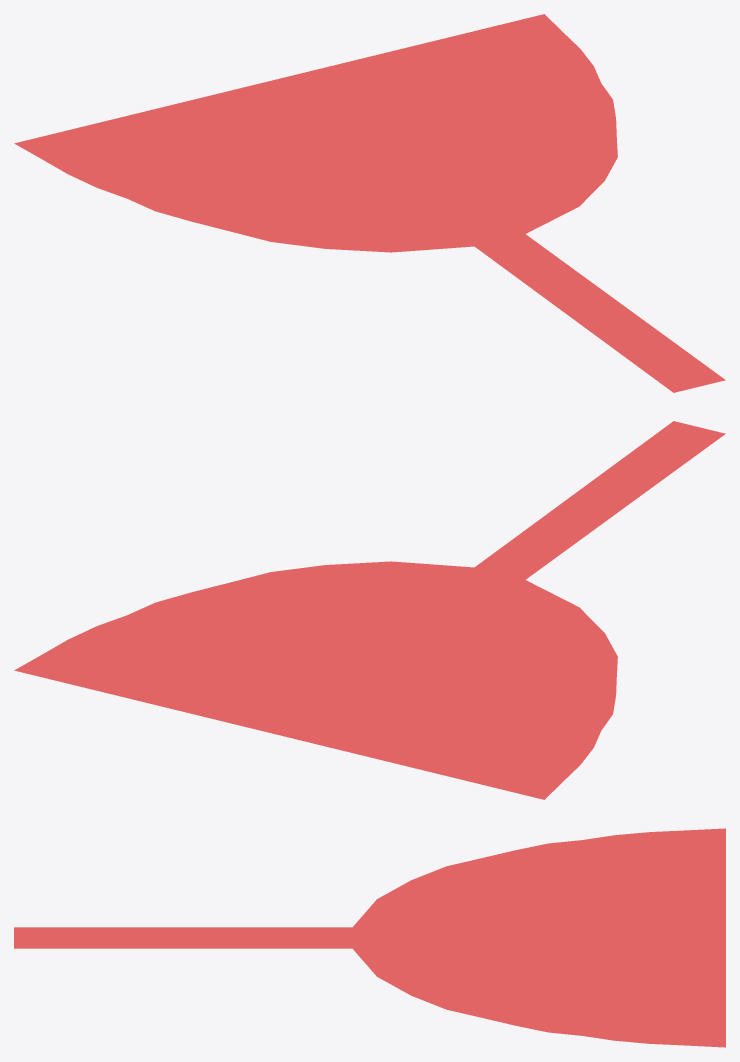
File: shalou1.FBX
3 views of the same model, one above another, from view 1: azimuth 30°, elevation 25°; view 2: azimuth 150°, elevation 25°; view 3: azimuth 270°, elevation 25° (orthographic). The views are drawn at different scales.
Parts seen in each view (by area): view 1: Plane002; view 2: Plane002; view 3: Plane002.
Boxes of the visible parts, <box> form: Plane002: <box>14,14,725,392</box>; Plane002: <box>14,421,725,799</box>; Plane002: <box>14,828,725,1047</box>.
Size of the model in its own units: 16.45 by 1.33e-15 by 22.59.
